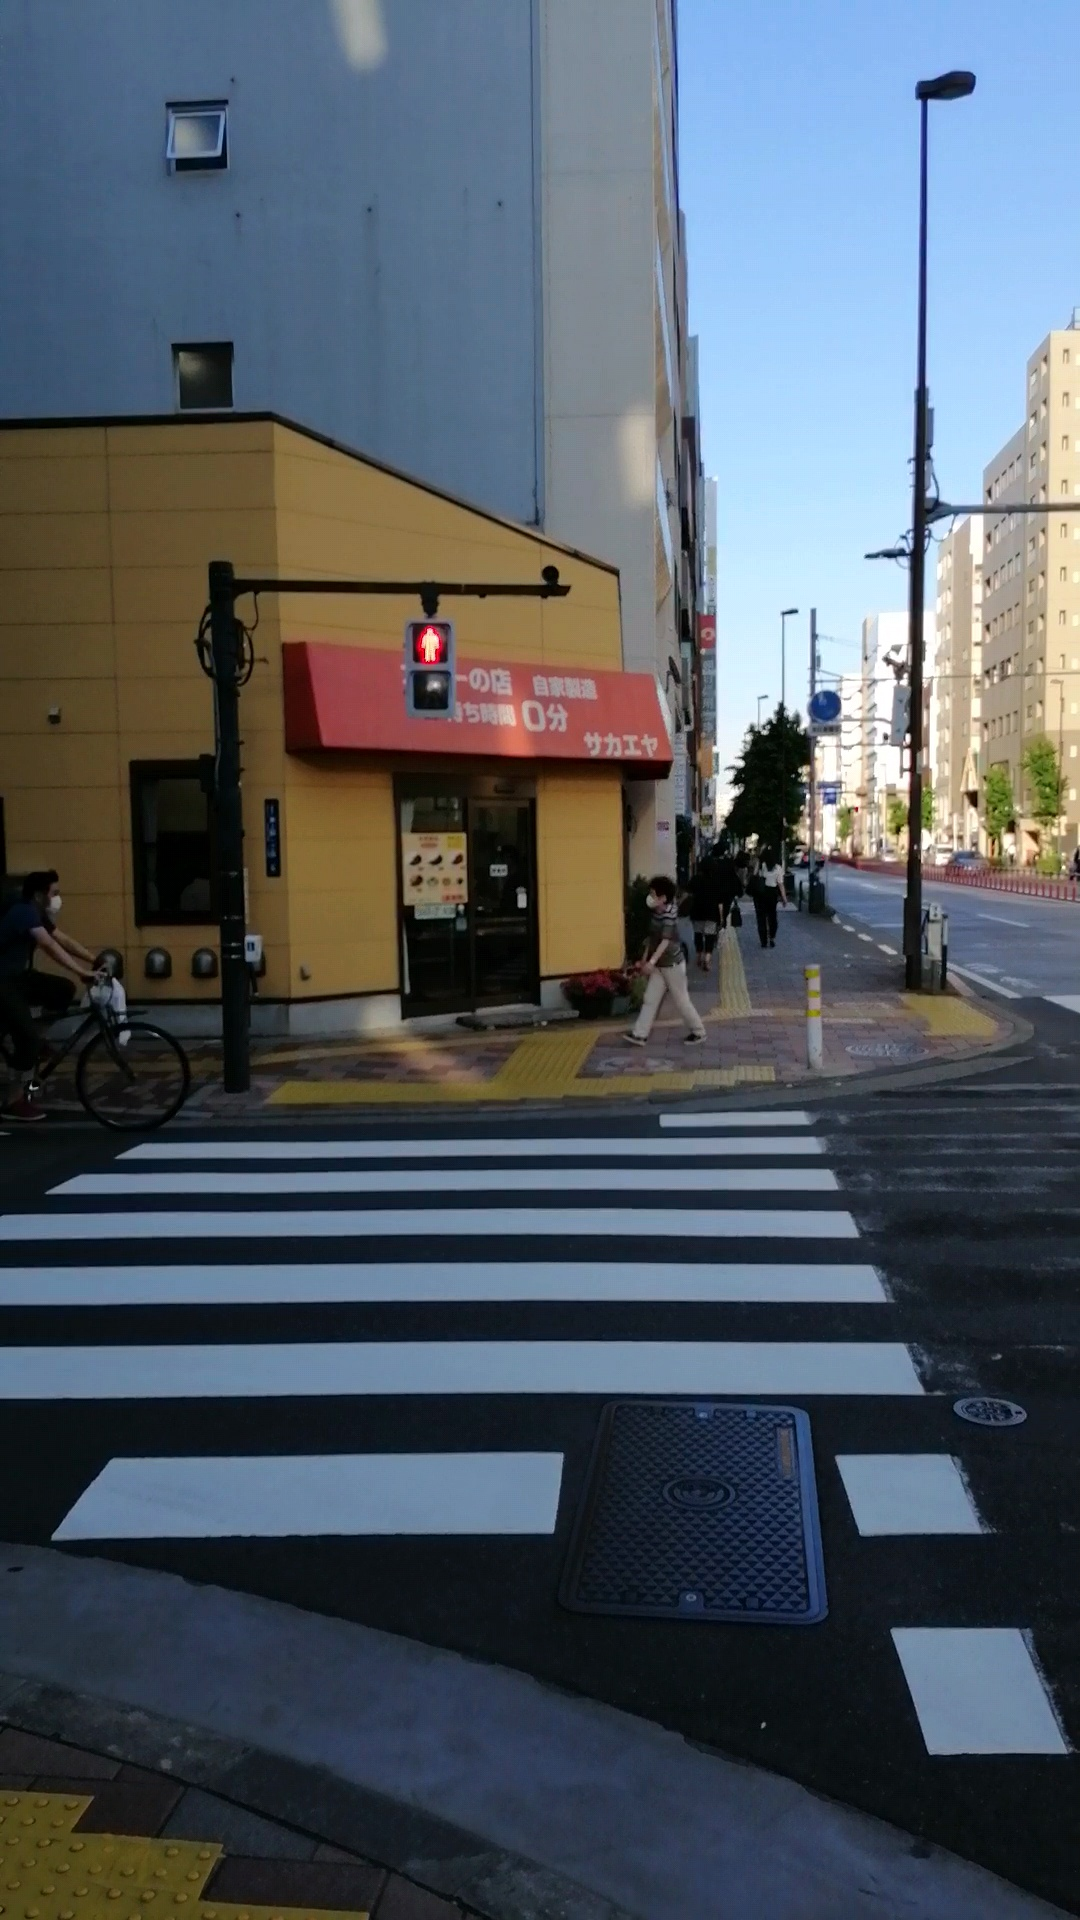red: (404, 618, 458, 723)
